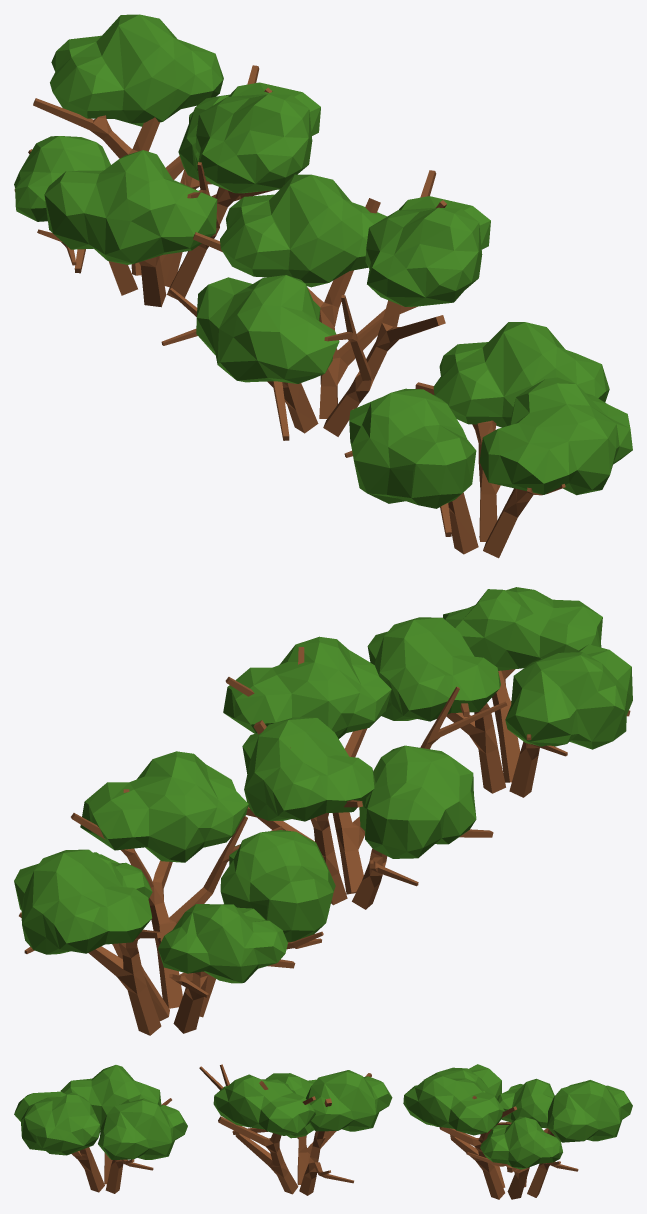
File: Трава.fbx
3 views of the same model, one above another, from view 1: azimuth 30°, elevation 25°; view 2: azimuth 150°, elevation 25°; view 3: azimuth 270°, elevation 25° (orthographic). The views are drawn at different scales.
Parts seen in each view (by area): view 1: Куб.010, Куб.001, Куб.009; view 2: Куб.010, Куб.001, Куб.009; view 3: Куб.010, Куб.009, Куб.001.
Boxes of the visible parts, x1,y1,x2,y2 form: Куб.010: (14,14,320,307); Куб.001: (161,170,490,440); Куб.009: (344,322,632,558); Куб.010: (14,751,335,1035); Куб.001: (223,636,507,909); Куб.009: (367,587,632,797); Куб.010: (403,1064,632,1199); Куб.009: (14,1065,187,1193); Куб.001: (199,1064,392,1195).
Bounding box in the file's own units: 593 × 442 × 1828.
